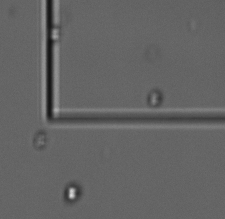Dead Cell: (63, 182, 81, 203), (31, 131, 50, 150)
Living Cell: (148, 91, 163, 107)
